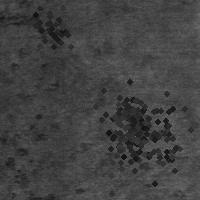rolled-in_scale: (93, 75, 200, 187), (88, 77, 194, 183), (83, 95, 175, 187), (1, 58, 58, 200), (19, 0, 79, 56), (106, 91, 148, 133), (1, 1, 48, 32)
